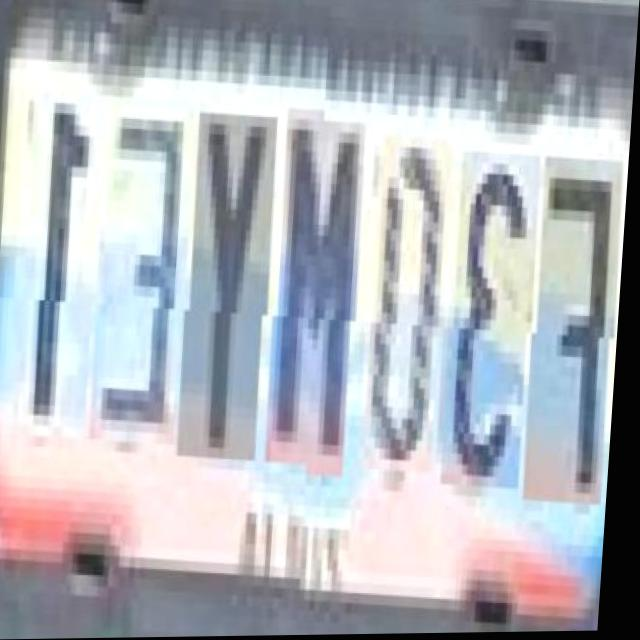0: (358, 140, 455, 478)
1: (10, 111, 106, 461)
3: (441, 154, 540, 494)
e: (89, 115, 196, 465)
f: (524, 160, 623, 510)
m: (265, 125, 365, 485)
y: (176, 130, 276, 480)
